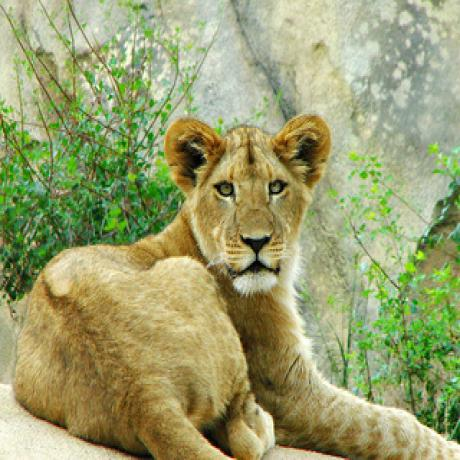Lion: (8, 112, 459, 460)
